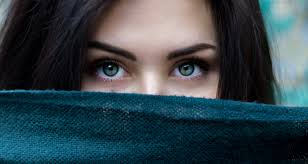pupil: (102, 62, 119, 76), (178, 62, 193, 75)
